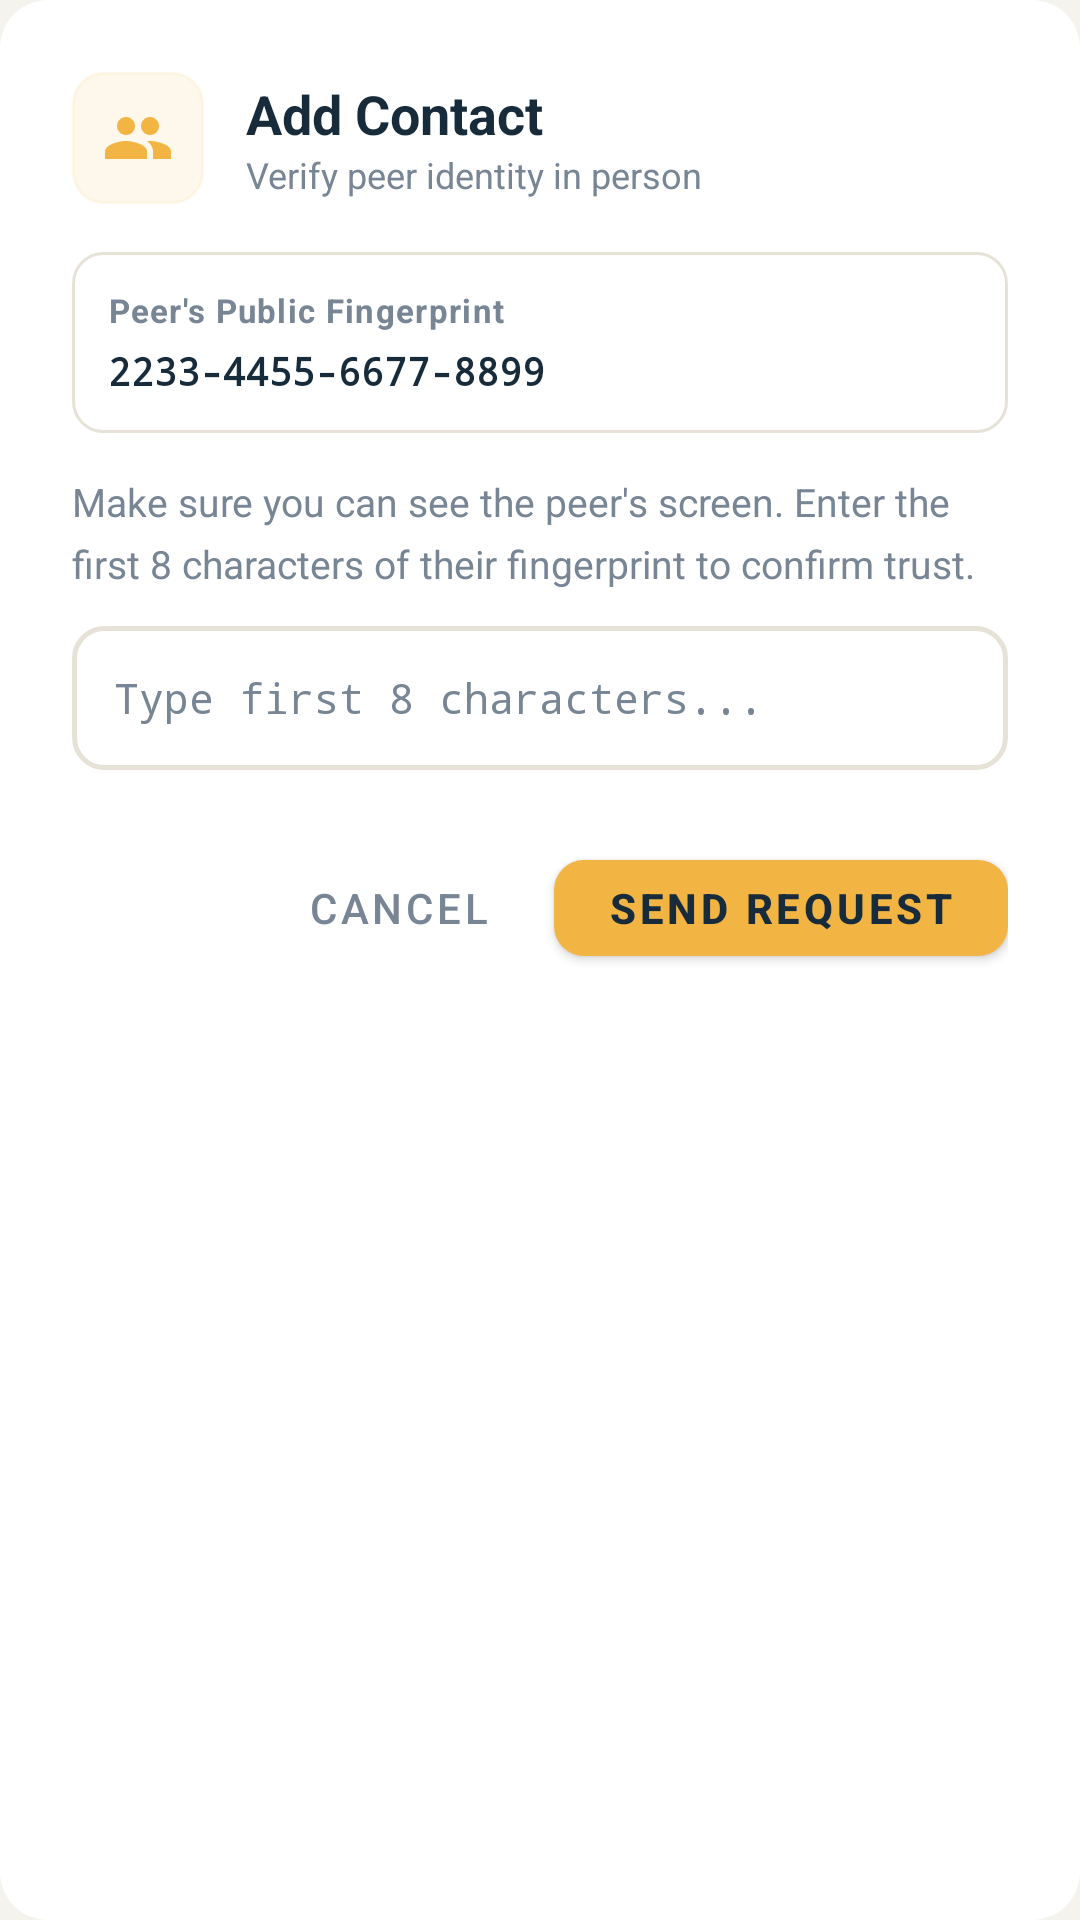

Icon click points for this 1080 x 1920 phone screenshot, format (x=x, y=y):
contacts: (x=138, y=138)
